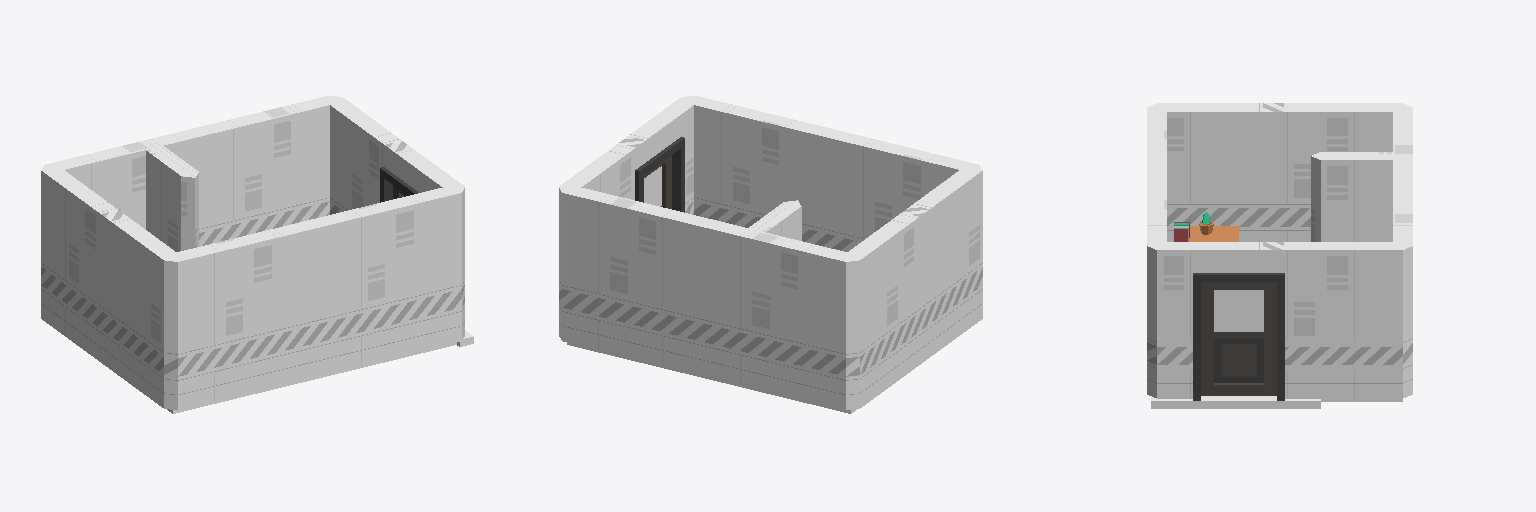
The picture shows the model from 3 angles: view 1: azimuth 30°, elevation 25°; view 2: azimuth 150°, elevation 25°; view 3: azimuth 270°, elevation 25°; orthographic projection.
Visible parts, largest first — view 1: mergedBlocks; view 2: mergedBlocks; view 3: mergedBlocks.
Boxes of the visible parts, box(x1,y1,x2,y2) form: mergedBlocks: box(41, 95, 473, 413); mergedBlocks: box(559, 95, 982, 413); mergedBlocks: box(1147, 103, 1412, 408).
Size of the model in its own units: 2.16 by 1.05 by 1.62.
11 materials, 1 textured.